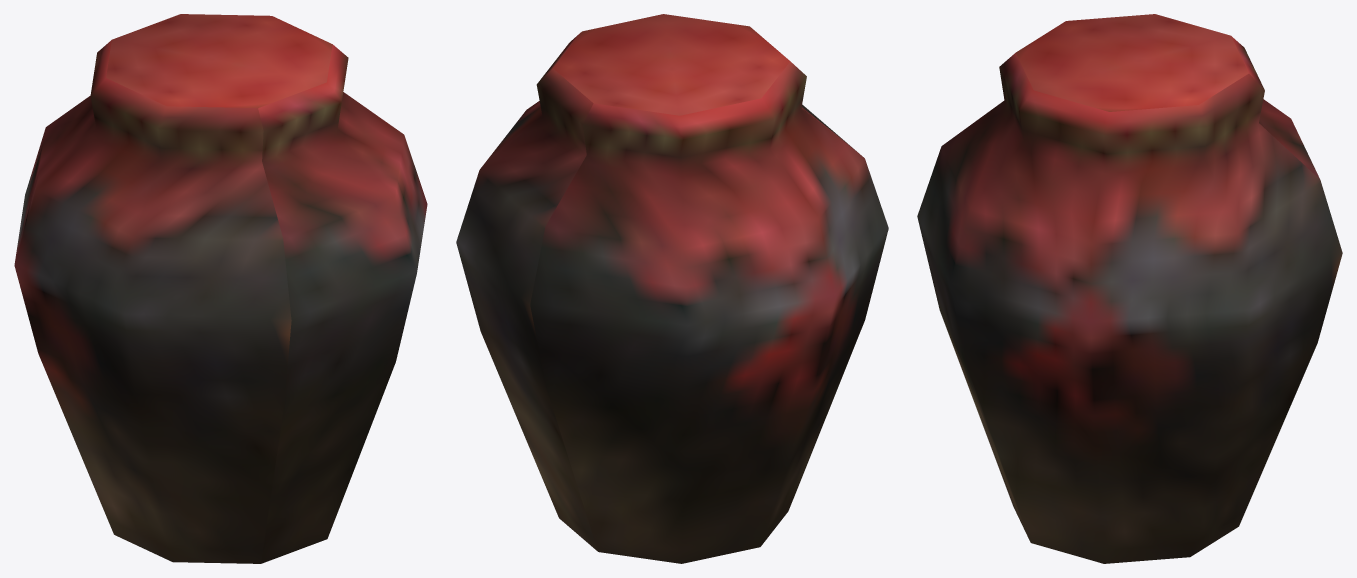
The model's file is d_sd_wujian06_qt.FBX.
3 views of the same model, side by side, from view 1: azimuth 30°, elevation 25°; view 2: azimuth 150°, elevation 25°; view 3: azimuth 270°, elevation 25° (orthographic).
Parts seen in each view (by area): view 1: d_sd_wujian06_qt_06A; view 2: d_sd_wujian06_qt_06A; view 3: d_sd_wujian06_qt_06A.
Part boxes in pixels (x1,y1,x2,y2): d_sd_wujian06_qt_06A: [14, 14, 427, 563]; d_sd_wujian06_qt_06A: [456, 14, 888, 563]; d_sd_wujian06_qt_06A: [917, 14, 1342, 563].
Size of the model in its own units: 23.2 by 27.29 by 23.15.
